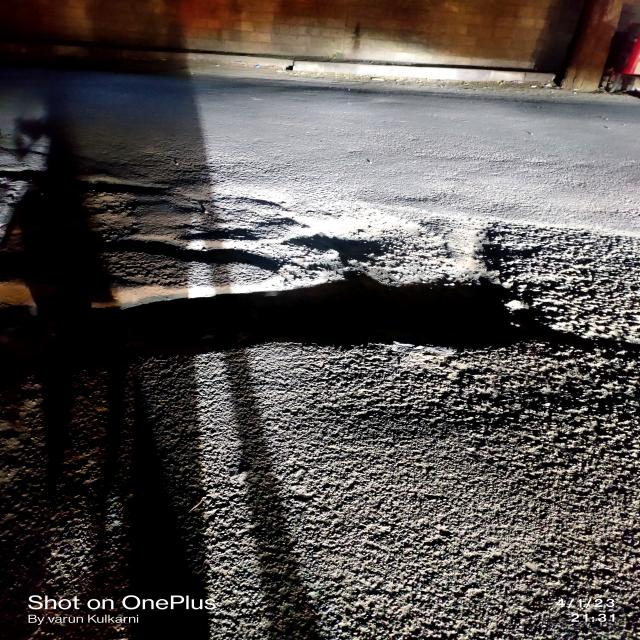potholes: (35, 276, 575, 368), (120, 230, 286, 272), (81, 167, 184, 205), (291, 232, 395, 266), (4, 157, 61, 186)
